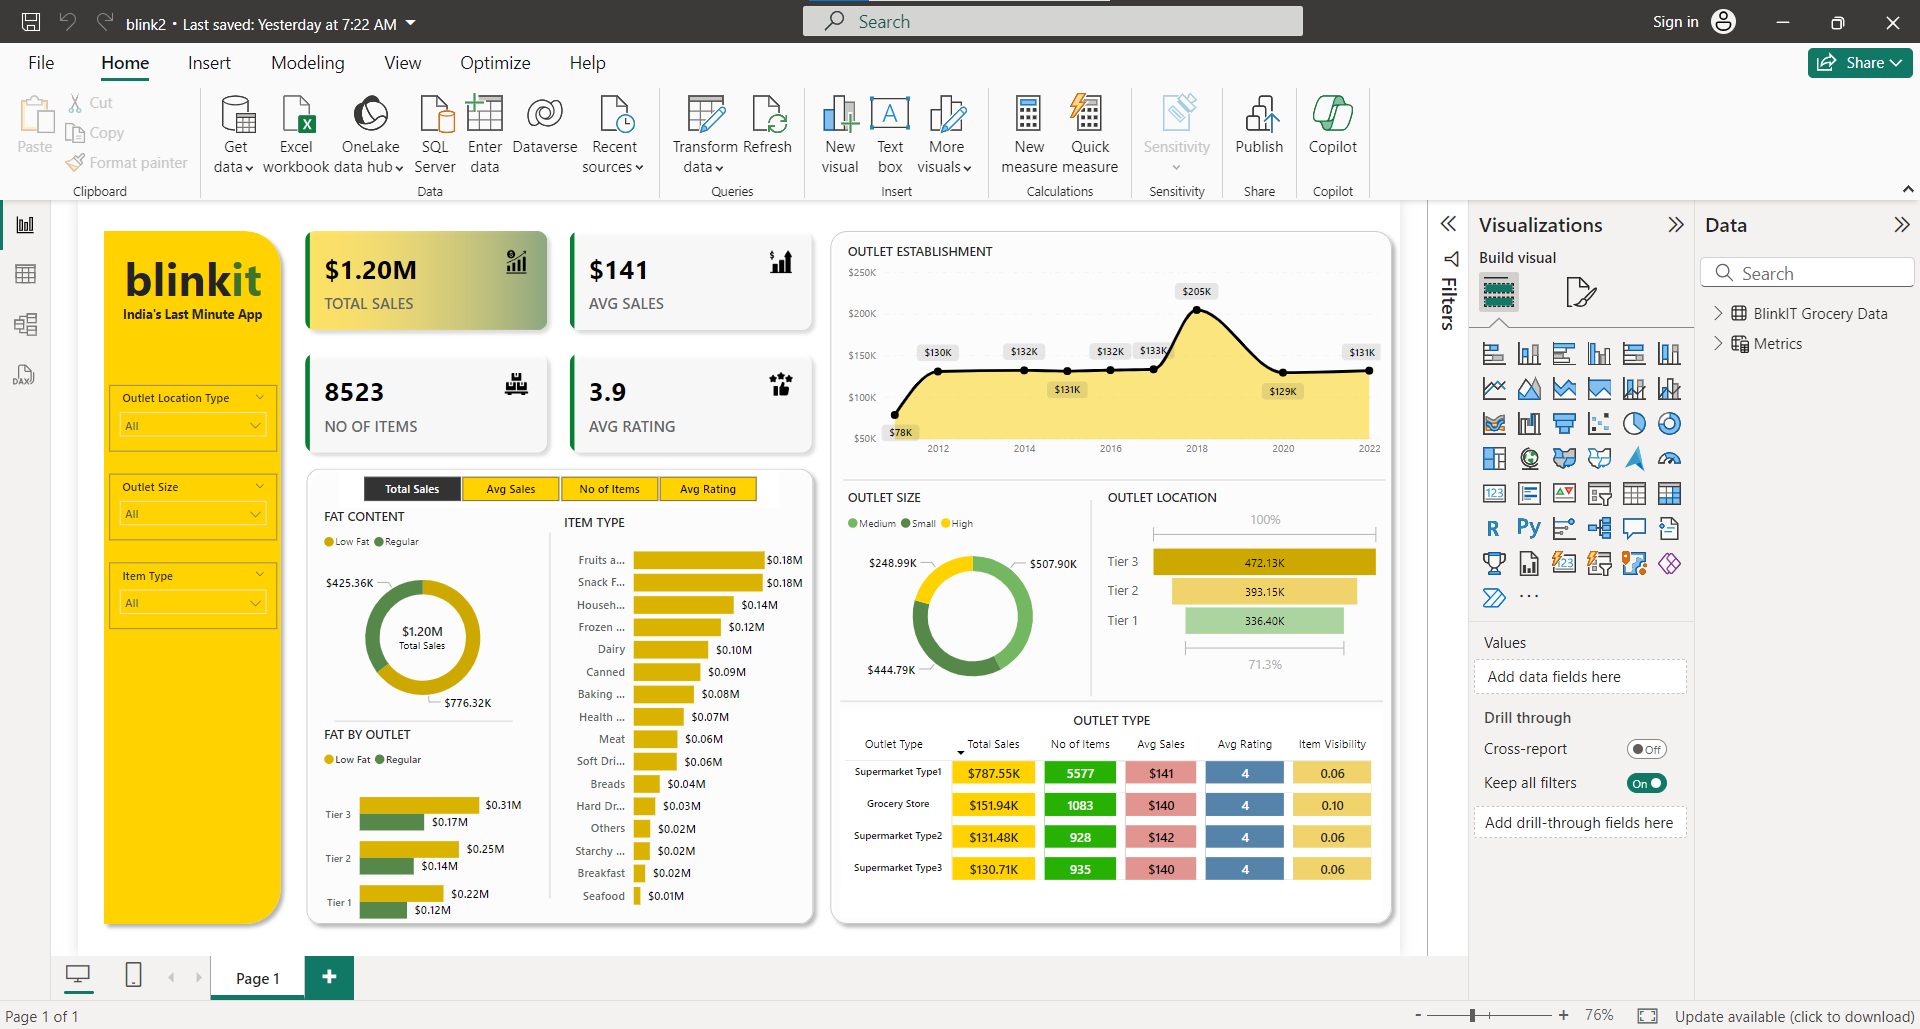

What the dashboard file says about the page in this screenshot:
{"tool":"powerbi","page":{"name":"Page 1","canvas":[1400,800],"ordinal":0},"visuals":[{"type":"shape","box":[18.5,23.8,205,751.3],"z":0},{"type":"textbox","box":[37,45,169.3,83.3],"z":1000},{"type":"textbox","box":[7.9,107.1,226.2,43.7],"z":2000},{"type":"cardVisual","fields":{"Data":["BlinkIT Grocery Data.Total Sales","BlinkIT Grocery Data.Avg Sales","BlinkIT Grocery Data.No of Items","BlinkIT Grocery Data.Avg Rating"]},"box":[223.5,15.9,570.1,269.8],"z":3000},{"type":"shape","box":[232.8,275.1,554.2,500],"z":4000},{"type":"donutChart","title":"FAT CONTENT","fields":{"Y":["BlinkIT Grocery Data.Total Sales"],"Category":["BlinkIT Grocery Data.Item Fat Content"]},"box":[255.3,325.4,219.6,230.2],"z":5000},{"type":"slicer","fields":{"Values":["Metrics.Metrics"]},"box":[276.5,285.7,465.6,39.7],"z":6000},{"type":"cardVisual","fields":{"Data":["BlinkIT Grocery Data.Total Sales"]},"box":[308.2,419.3,112.4,86],"z":7000},{"type":"clusteredBarChart","title":"FAT BY OUTLET","fields":{"Y":["BlinkIT Grocery Data.Total Sales"],"Category":["BlinkIT Grocery Data.Outlet Location Type"],"Series":["BlinkIT Grocery Data.Item Fat Content"]},"box":[255.3,555.6,219.6,230.2],"z":8000},{"type":"shape","box":[271.2,530.4,189.2,42.3],"z":9000},{"type":"shape","box":[474.9,351.9,48.9,387.6],"z":10000},{"type":"barChart","title":"ITEM TYPE","fields":{"Y":["BlinkIT Grocery Data.Total Sales"],"Category":["BlinkIT Grocery Data.Item Type"]},"box":[509.3,332,263.2,428.6],"z":11000},{"type":"shape","box":[787,23.8,612.4,751.3],"z":12000},{"type":"lineChart","title":"OUTLET ESTABLISHMENT","fields":{"Y":["BlinkIT Grocery Data.Total Sales"],"Category":["BlinkIT Grocery Data.Outlet Establishment Year"]},"box":[809.5,45,574.1,235.5],"z":13000},{"type":"shape","box":[809.5,275.1,574.1,42.3],"z":14000},{"type":"donutChart","title":"OUTLET SIZE","fields":{"Y":["BlinkIT Grocery Data.Total Sales"],"Category":["BlinkIT Grocery Data.Outlet Size"]},"box":[809.5,305.6,275.1,224.9],"z":15000},{"type":"shape","box":[977.5,317.5,189.2,207.7],"z":16000},{"type":"funnel","title":"OUTLET LOCATION","fields":{"Category":["BlinkIT Grocery Data.Outlet Location Type"],"Y":["Sum(BlinkIT Grocery Data.Sales)"]},"box":[1084.7,305.6,298.9,199.7],"z":17000},{"type":"shape","box":[806.9,509.3,574.1,42.3],"z":18000},{"type":"pivotTable","title":"OUTLET TYPE","fields":{"Rows":["BlinkIT Grocery Data.Outlet Type"],"Values":["BlinkIT Grocery Data.Total Sales","BlinkIT Grocery Data.No of Items","BlinkIT Grocery Data.Avg Sales","BlinkIT Grocery Data.Avg Rating","Avg(BlinkIT Grocery Data.Item Visibility)"]},"box":[806.9,541,574.1,219.6],"z":19000},{"type":"slicer","fields":{"Values":["BlinkIT Grocery Data.Outlet Location Type"]},"box":[33.1,195.8,177.2,70.1],"z":20000},{"type":"slicer","fields":{"Values":["BlinkIT Grocery Data.Outlet Size"]},"box":[33.1,289.7,177.2,70.1],"z":21000},{"type":"slicer","fields":{"Values":["BlinkIT Grocery Data.Item Type"]},"box":[33.1,383.6,177.2,70.1],"z":22000}]}

Visuals, with their boxes on the page's 1400x800 design canvas (x1, y1, x2, y2). These are canvas units, not pixel positions in the 1920x1029 screenshot, which may show the page scaled, cropped or inside an application window:
shape: 18, 24, 224, 775
textbox: 37, 45, 206, 128
textbox: 8, 107, 234, 151
cardVisual - BlinkIT Grocery Data.Total Sales x BlinkIT Grocery Data.Avg Sales: 224, 16, 794, 286
shape: 233, 275, 787, 775
"FAT CONTENT" donutChart: 255, 325, 475, 556
slicer - Metrics.Metrics: 276, 286, 742, 325
cardVisual - BlinkIT Grocery Data.Total Sales: 308, 419, 421, 505
"FAT BY OUTLET" clusteredBarChart: 255, 556, 475, 786
shape: 271, 530, 460, 573
shape: 475, 352, 524, 740
"ITEM TYPE" barChart: 509, 332, 772, 761
shape: 787, 24, 1399, 775
"OUTLET ESTABLISHMENT" lineChart: 810, 45, 1384, 280
shape: 810, 275, 1384, 317
"OUTLET SIZE" donutChart: 810, 306, 1085, 530
shape: 978, 318, 1167, 525
"OUTLET LOCATION" funnel: 1085, 306, 1384, 505
shape: 807, 509, 1381, 552
"OUTLET TYPE" pivotTable: 807, 541, 1381, 761
slicer - BlinkIT Grocery Data.Outlet Location Type: 33, 196, 210, 266
slicer - BlinkIT Grocery Data.Outlet Size: 33, 290, 210, 360
slicer - BlinkIT Grocery Data.Item Type: 33, 384, 210, 454
